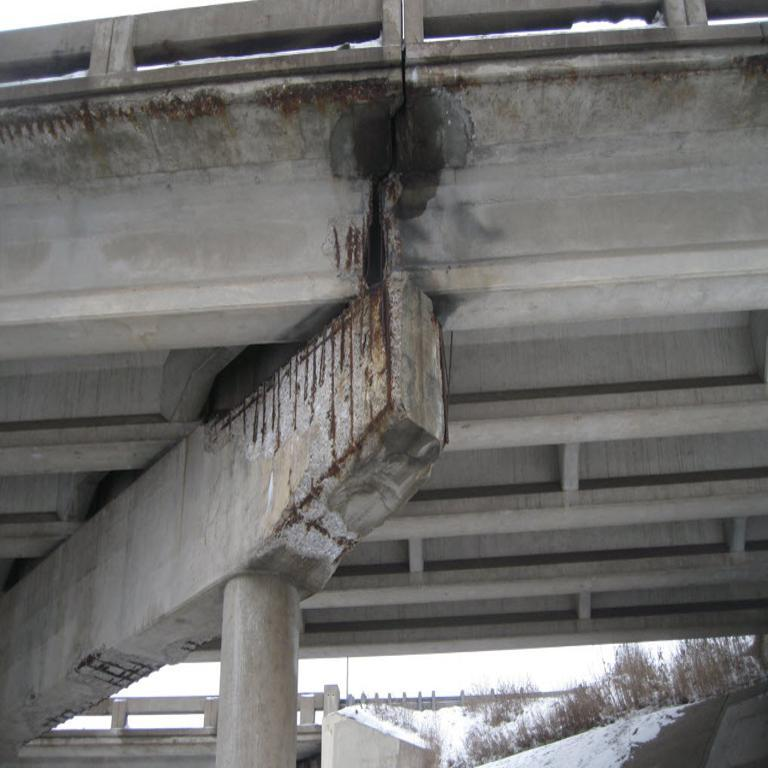spalling: (0, 88, 231, 143), (274, 464, 357, 569), (250, 80, 393, 115), (14, 699, 98, 754), (69, 650, 156, 694), (322, 208, 364, 272), (165, 640, 198, 662)
